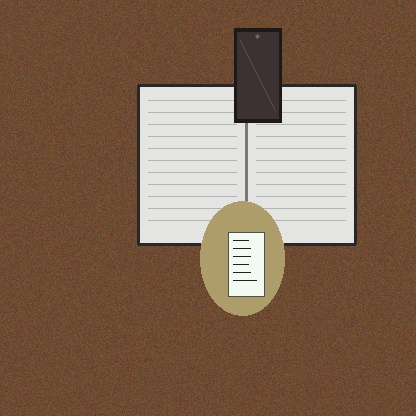book: (138, 85, 355, 244)
cell_phone: (234, 28, 281, 122)
exam_chit: (228, 232, 264, 296)
